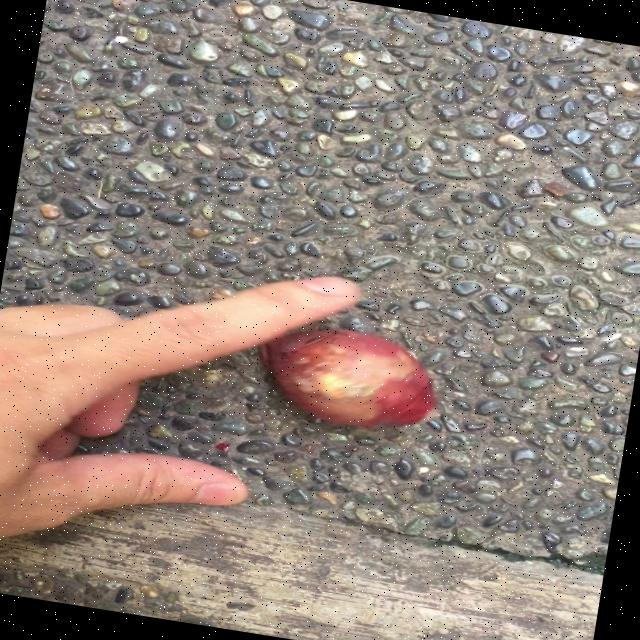Onion: (262, 330, 436, 427)
